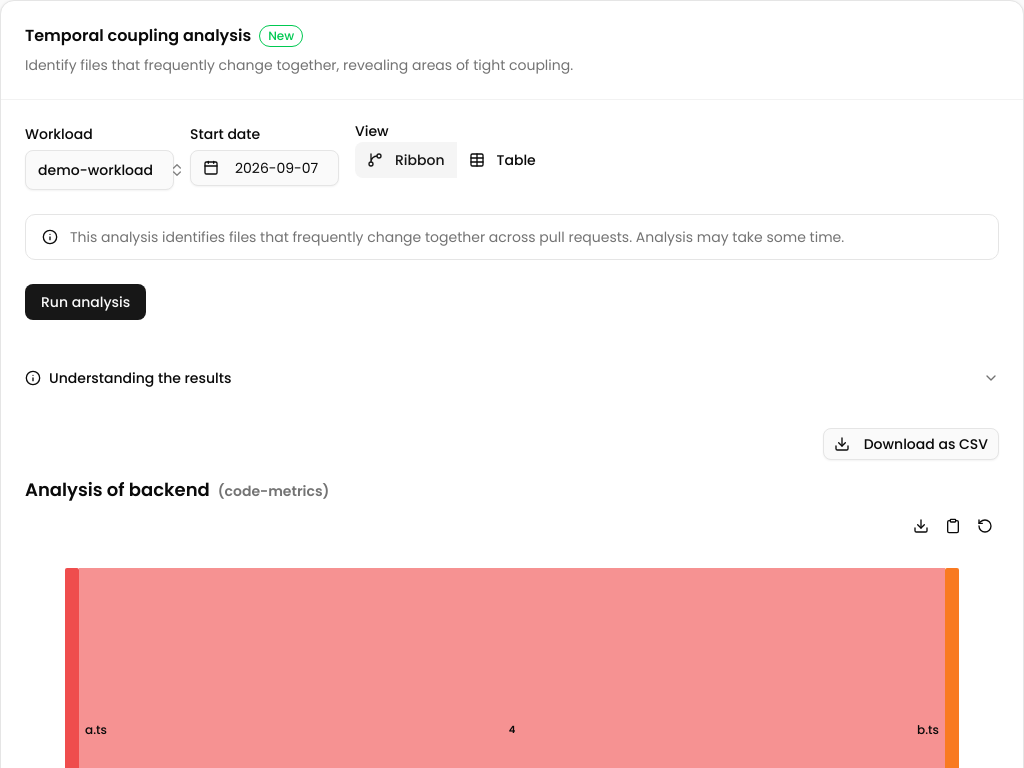
Scenario: TemporalCoupling › switches to table view when selected
Step 1. Click the radio button with aria-label "Table view" → [502, 160], box [456,142,548,178]
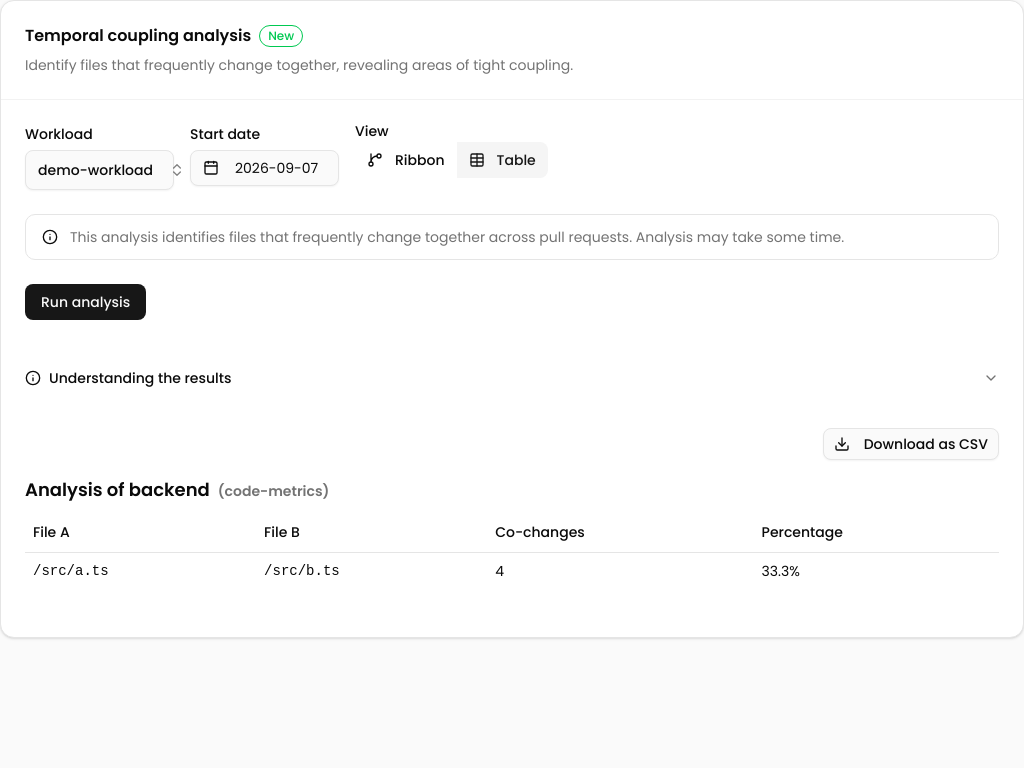
Check: the text "/src/a.ts" is shown, box [25,552,256,588]
Check: the text "/src/b.ts" is shown, box [256,552,487,588]
Check: the text "33.3%" is shown, box [754,552,999,588]
